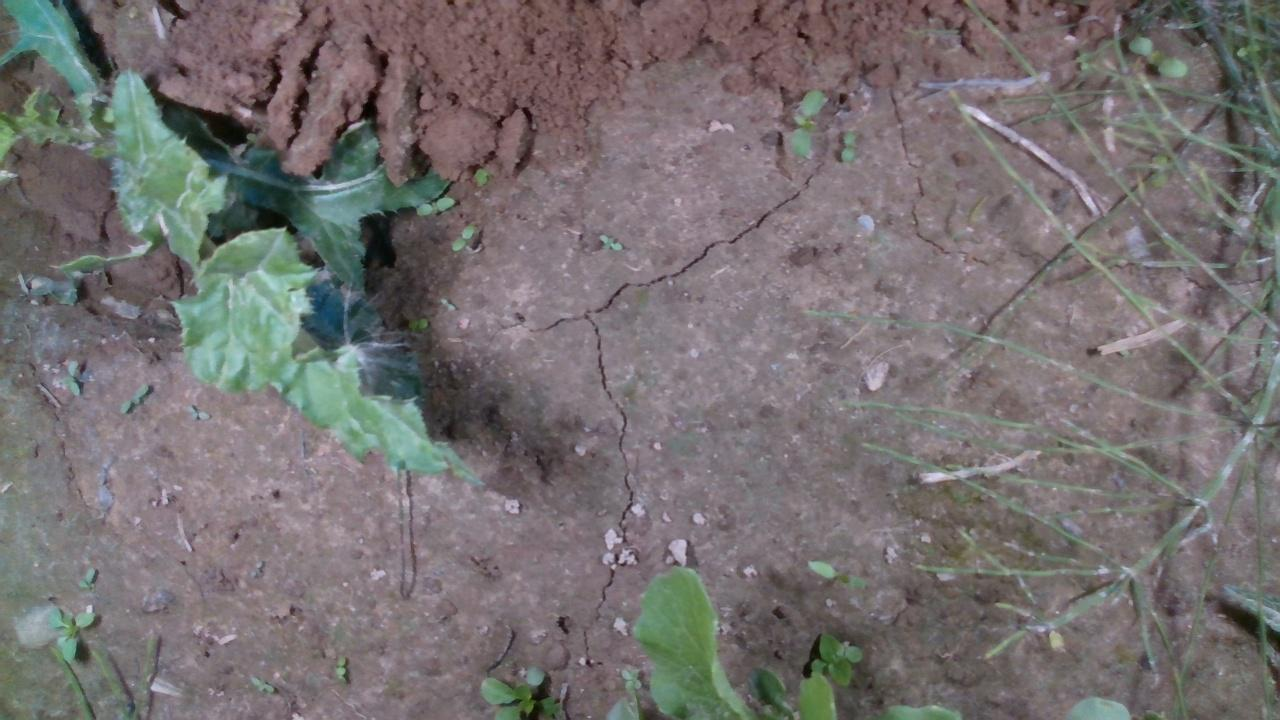weed: (788, 87, 824, 158), (115, 381, 149, 415), (57, 356, 85, 397), (449, 220, 476, 251), (838, 129, 856, 164), (75, 565, 97, 589), (185, 402, 210, 420), (249, 675, 274, 692), (597, 232, 622, 249), (406, 315, 428, 329), (438, 297, 456, 310)
